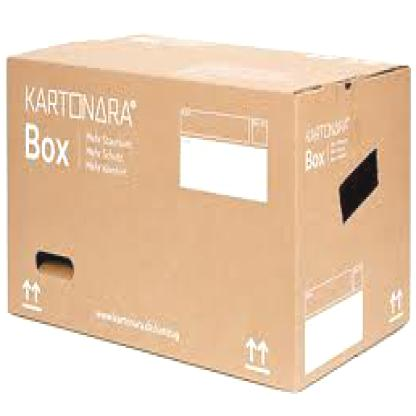package: (9, 34, 408, 396)
